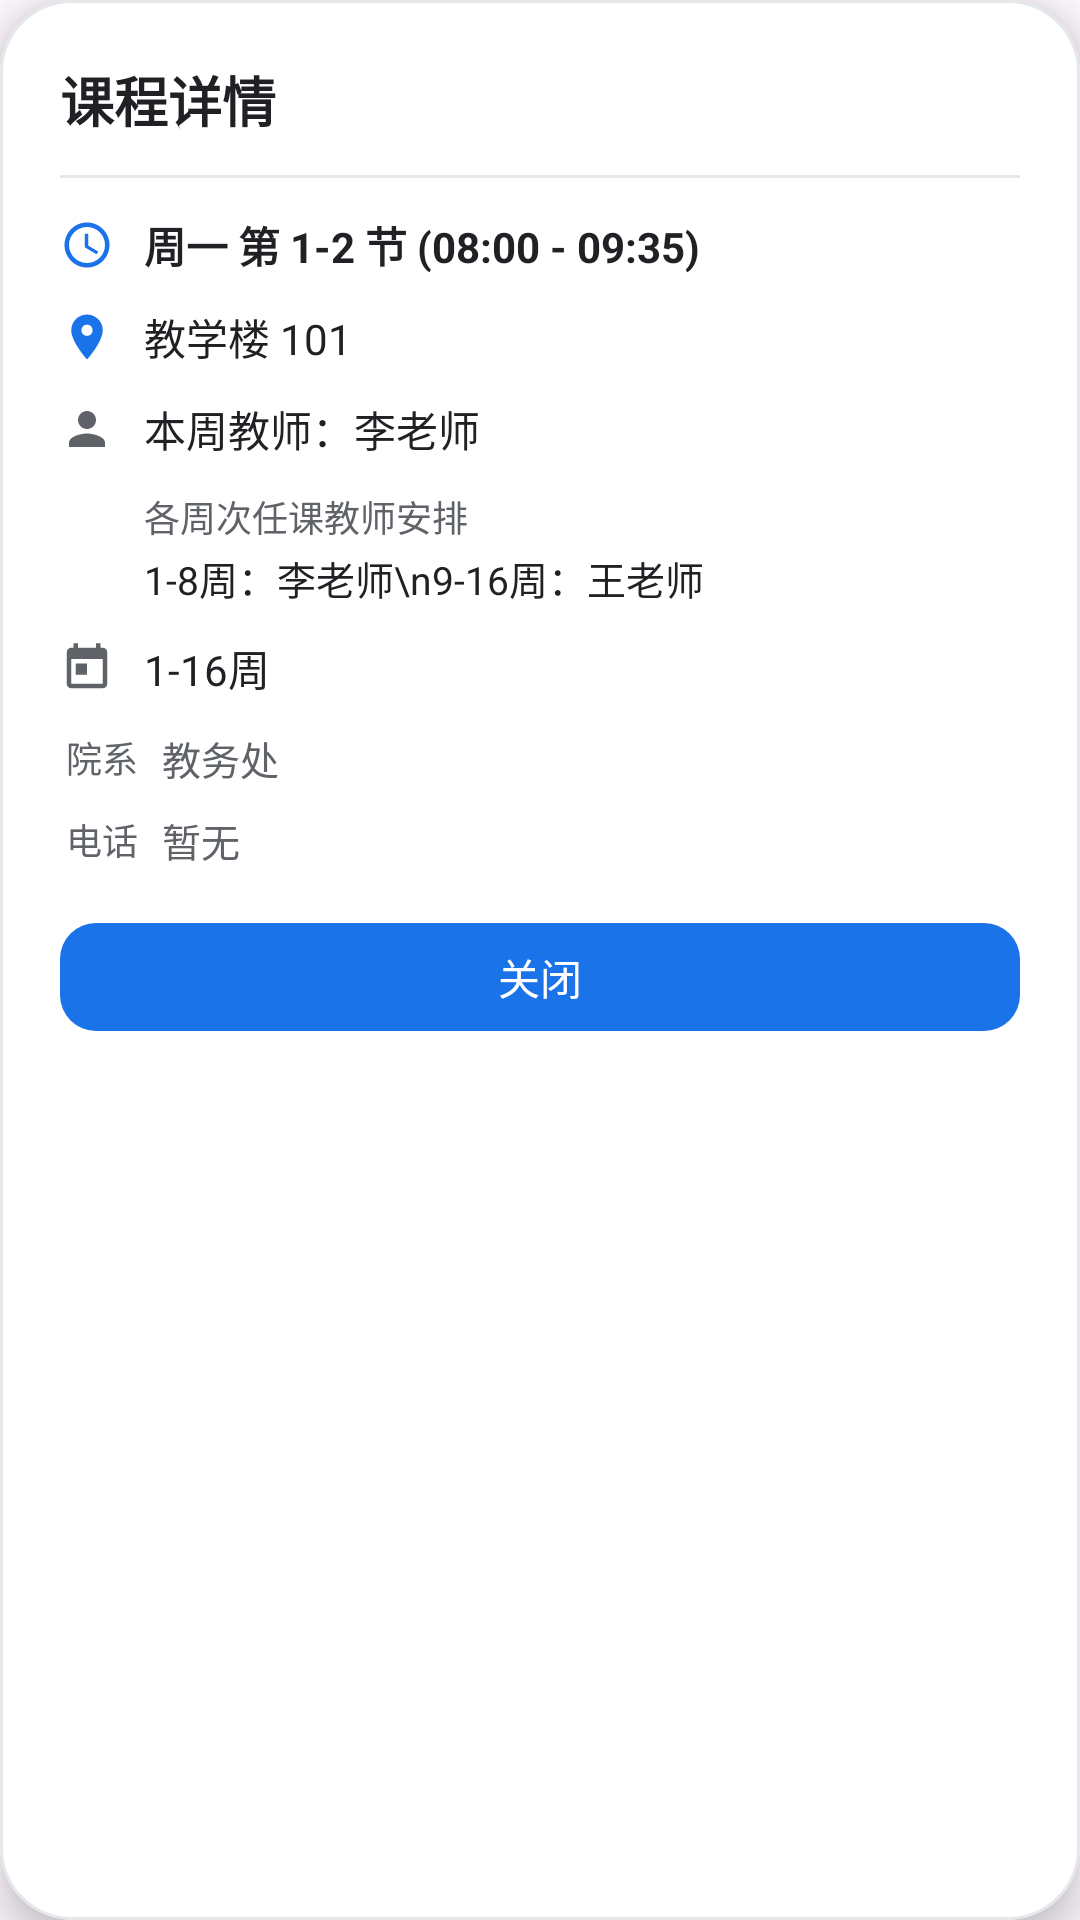

Screen size 1080 x 1920. Icon name, then its box in pixels as (x1, y1, x2, y2):
地点: (71, 314, 103, 359)
时间: (64, 222, 110, 268)
